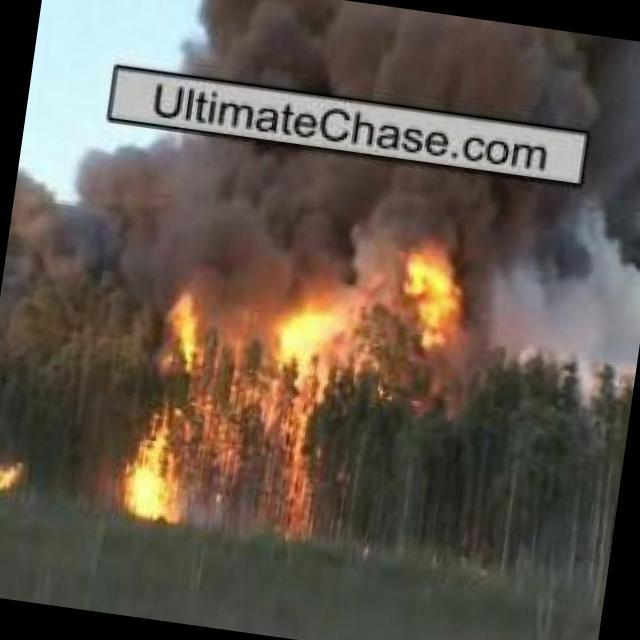Fire: (96, 400, 201, 531), (261, 263, 355, 377), (394, 241, 475, 355), (151, 285, 221, 385), (1, 456, 31, 505)
